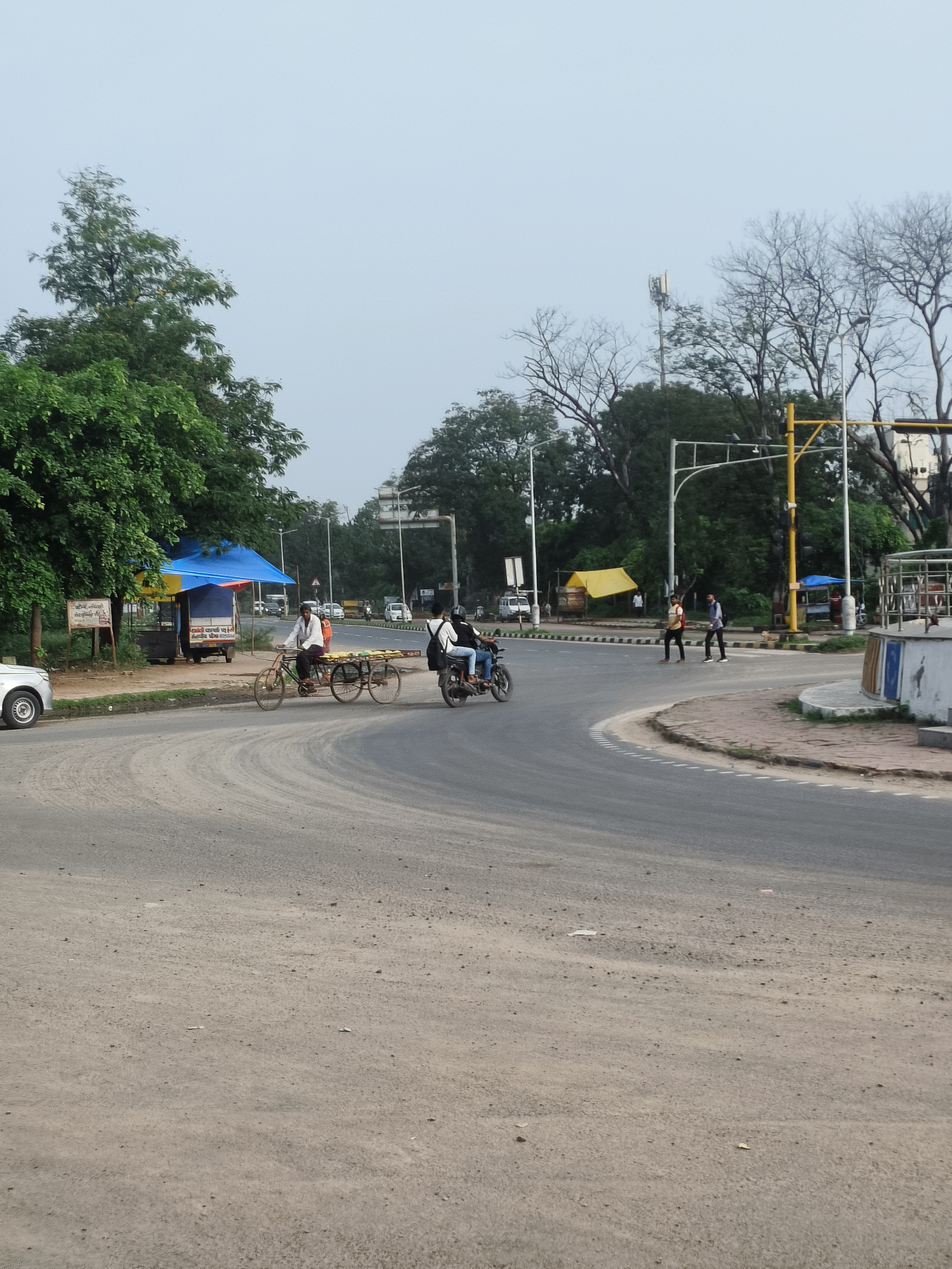BikeWithRider: (418, 602, 526, 713)
Helmet: (448, 601, 471, 625)
NoHelmet: (430, 599, 447, 620)
